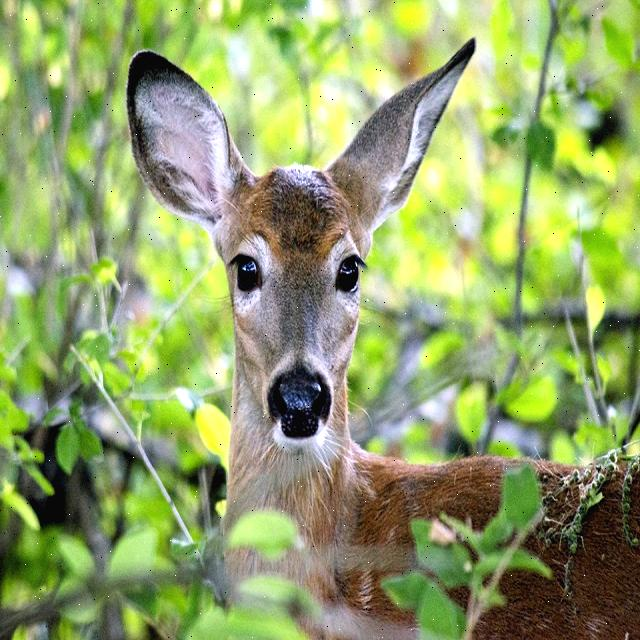deer: (112, 32, 640, 640)
